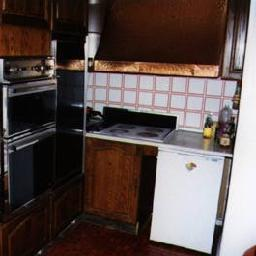Electrodomestico: (6, 60, 52, 199), (157, 148, 217, 251), (57, 42, 82, 176), (90, 116, 169, 145)
